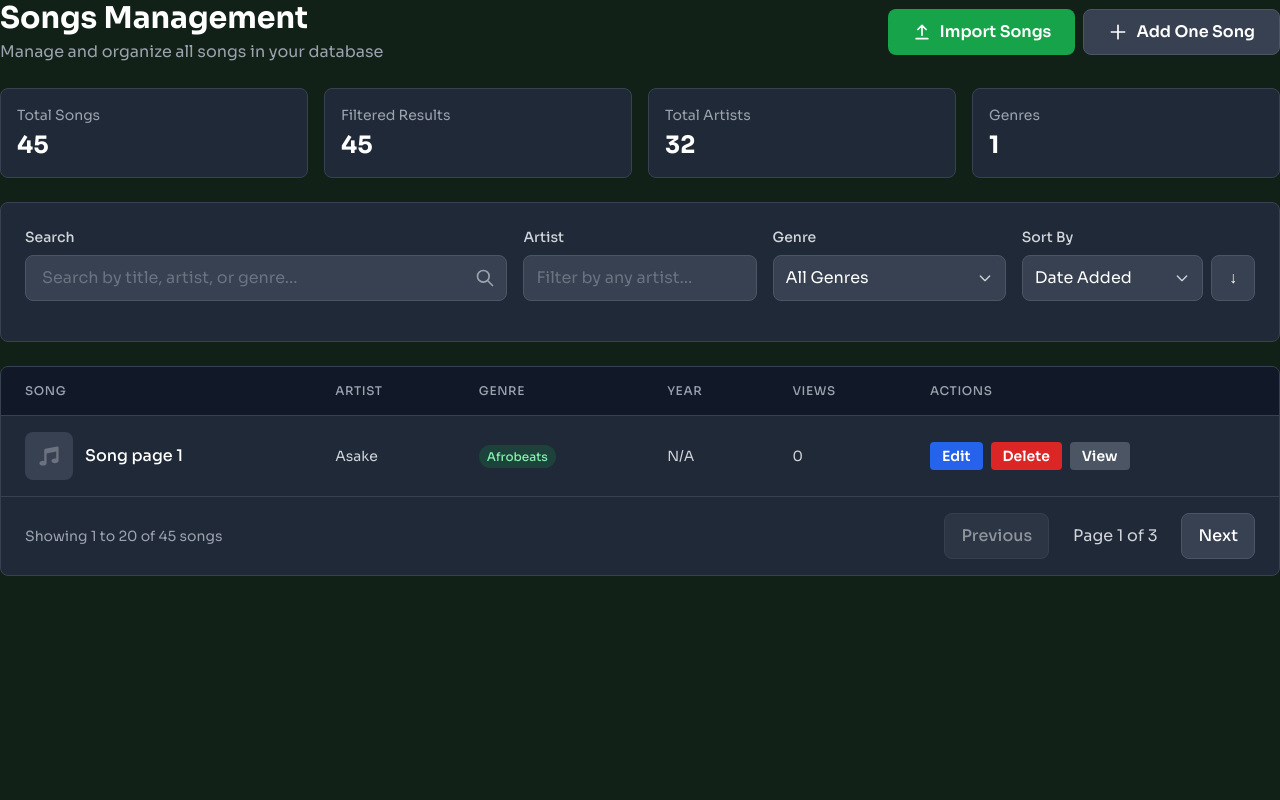
SongsManager › opens a row edit modal and saves changes through the song API
The image size is (1280, 800).
Step 1. Click the text "Song page 1" → click(134, 456), box [85,444,183,468]
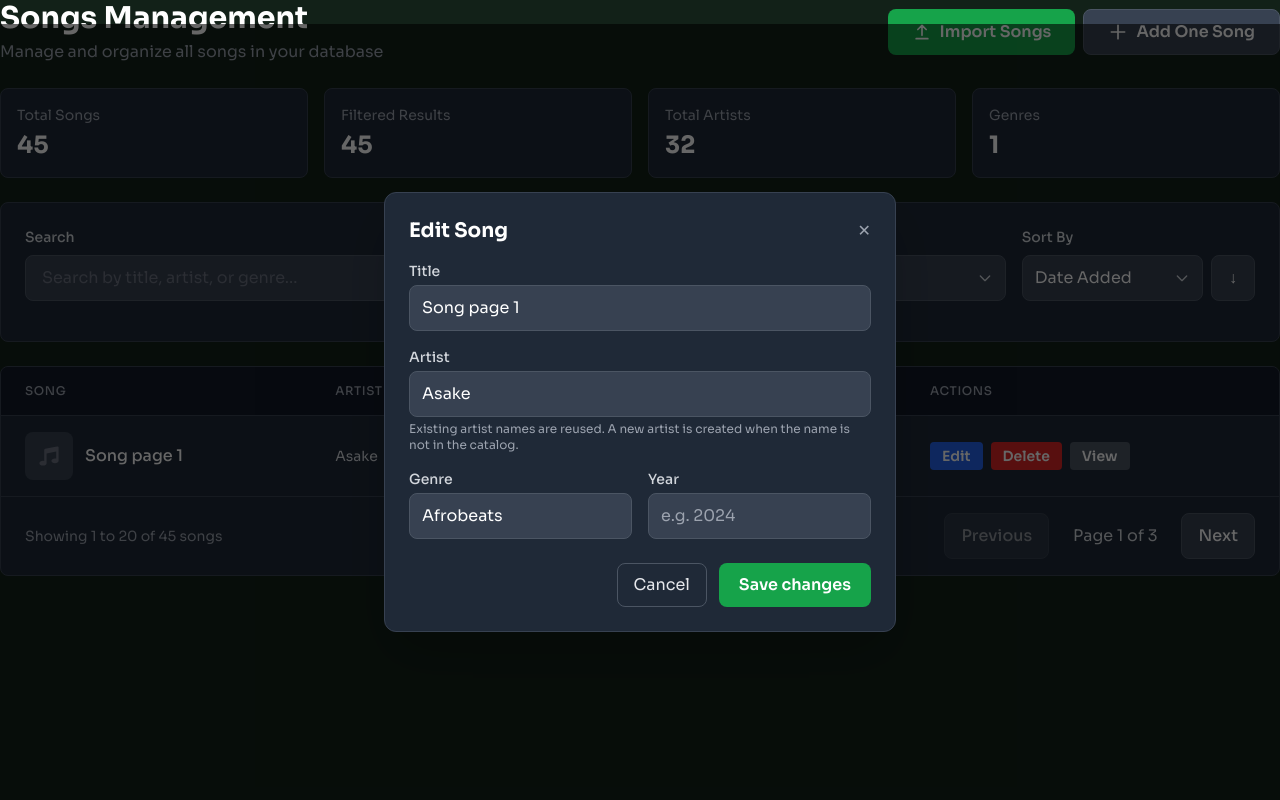
Now the dialog "Edit Song" is shown, box [384,192,896,632]
Step 2. Replace the text in the field labelled "Title" with "Renamed Song" → (640, 308), box [409,285,871,331]
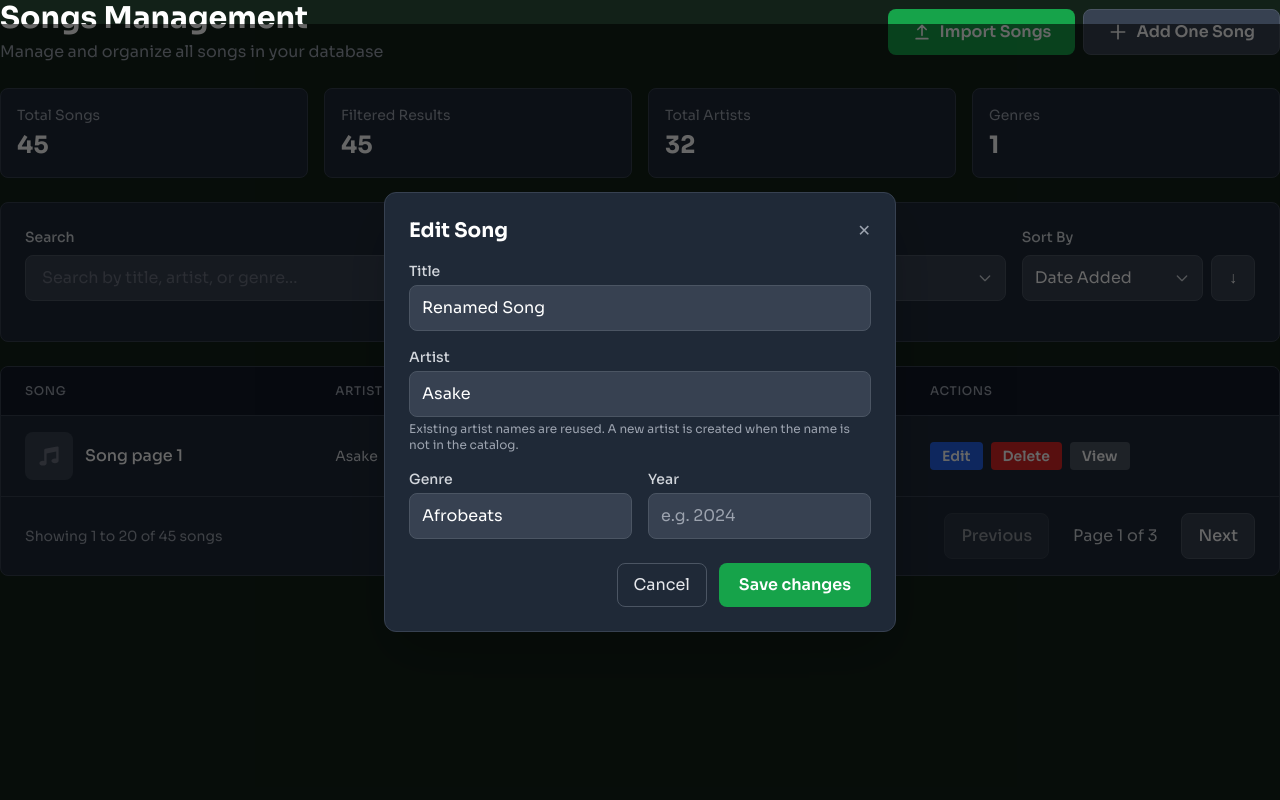
Step 3. Replace the text in the field labelled "Artist" with "Rema" → (640, 394), box [409,371,871,417]
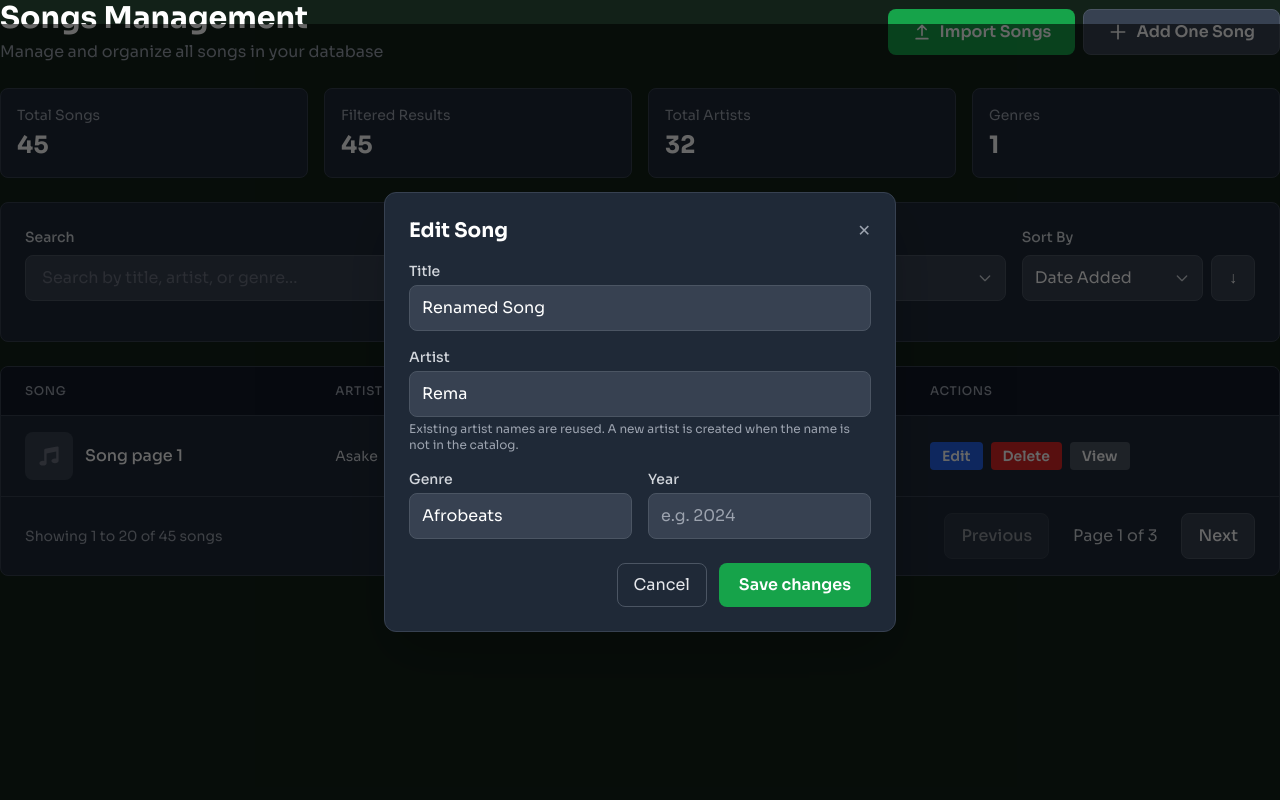
Step 4. Replace the text in the field labelled "Genre" with "Afrobeat" → (520, 516), box [409,493,632,539]
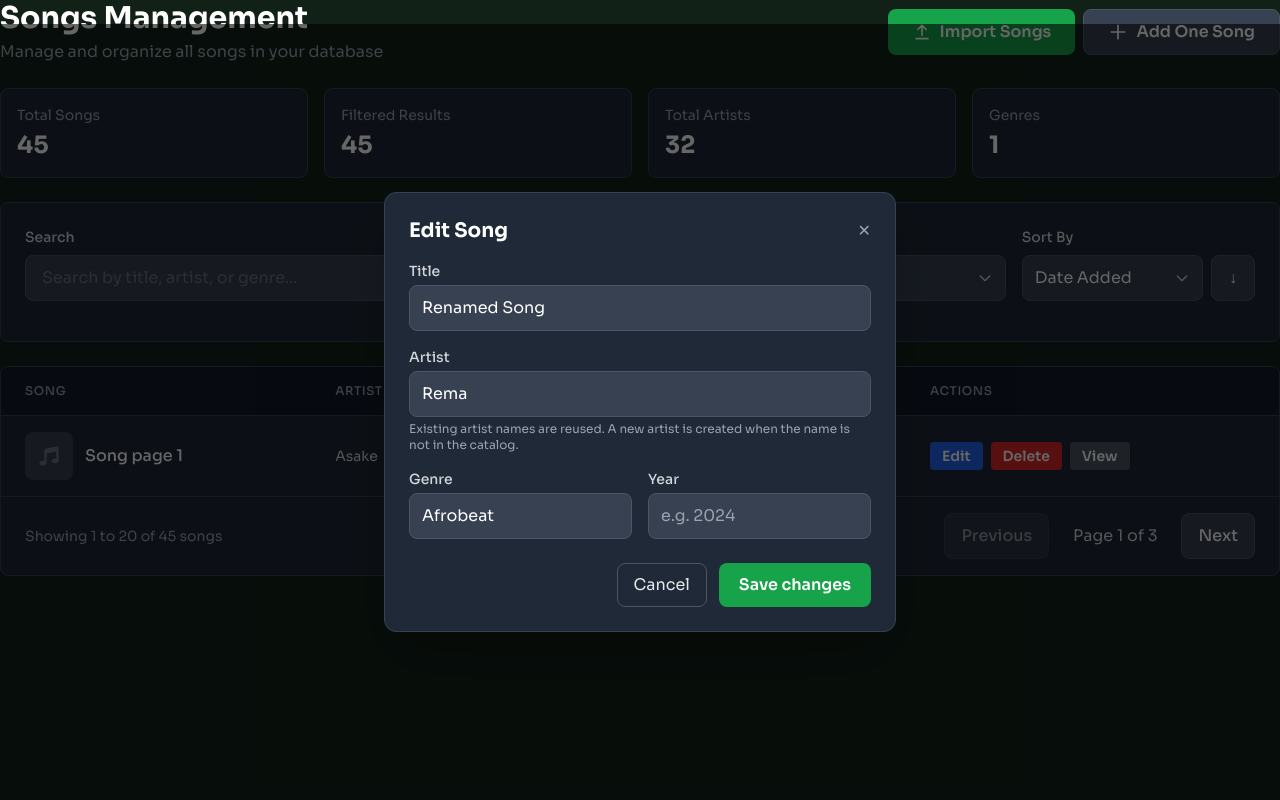
Step 5. Type "2025" into the field labelled "Year" → (760, 516), box [648,493,871,539]
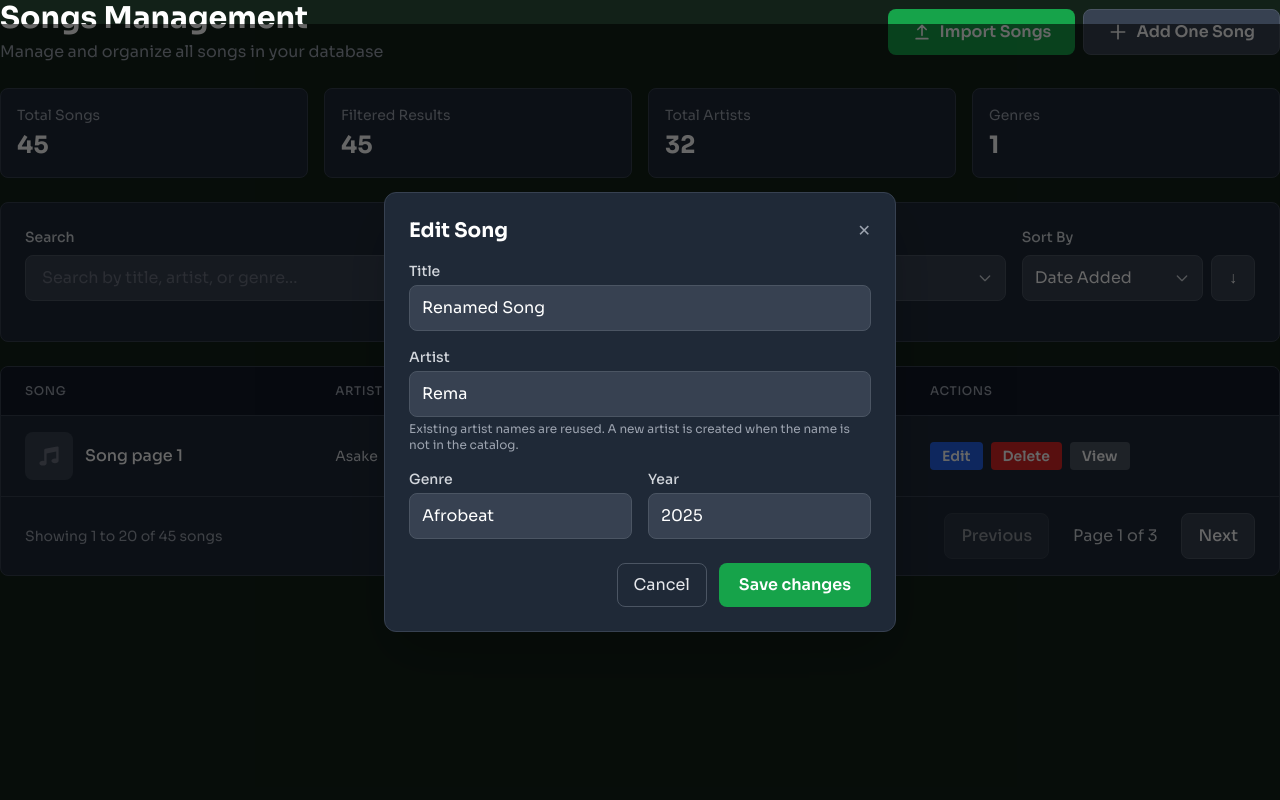
Step 6. Click the button "Save changes" → click(795, 585), box [719,563,871,607]
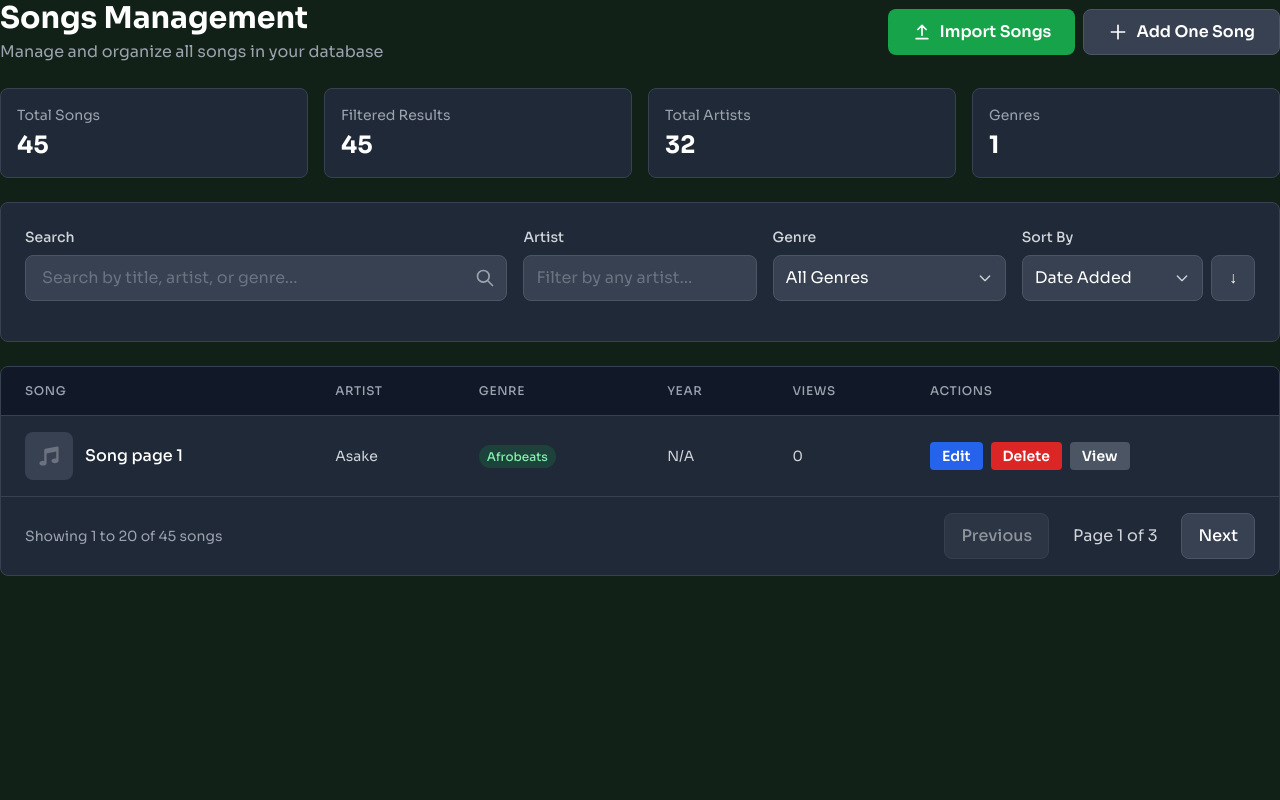
Now the heading "Edit Song" is gone
